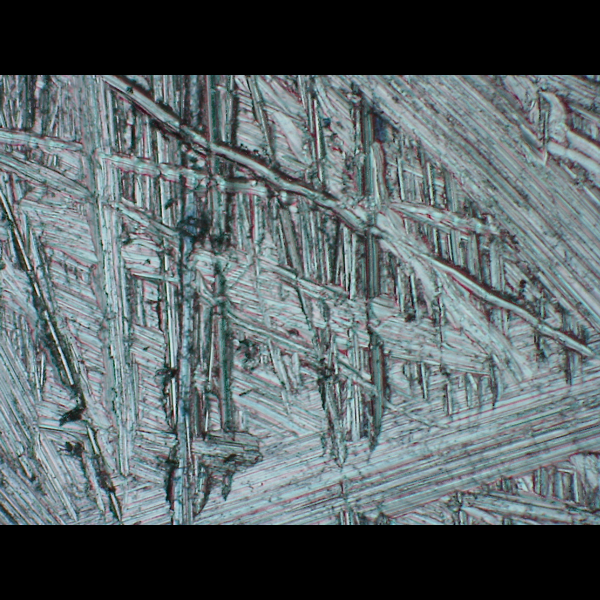d: (0, 76, 598, 524)
